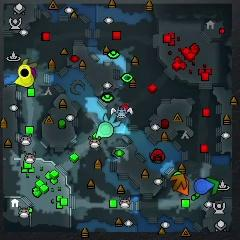p1: (194, 178, 214, 195)
p2: (96, 122, 114, 137)
p3: (32, 68, 37, 79)
p4: (13, 75, 34, 87)
p4Clone: (18, 67, 31, 78)
p5: (177, 178, 189, 196)
x2: (21, 59, 37, 68)
x3: (103, 112, 121, 127)
x4: (206, 177, 219, 194)
x5: (170, 174, 187, 191)
